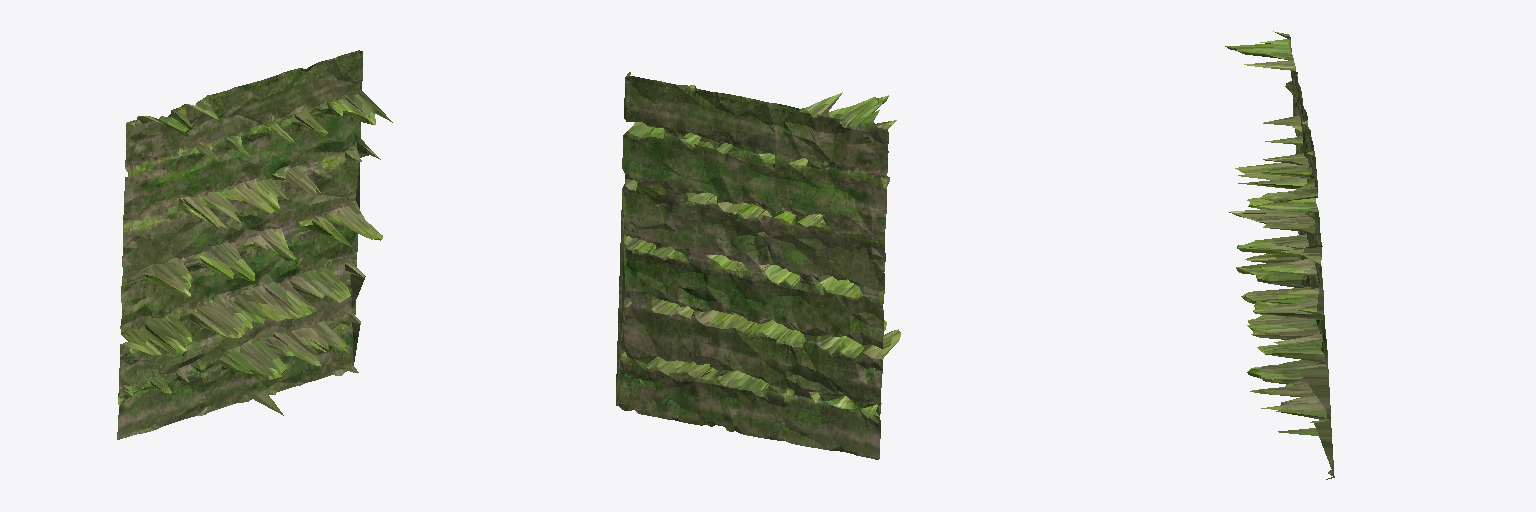
The picture shows the model from 3 angles: view 1: azimuth 30°, elevation 25°; view 2: azimuth 150°, elevation 25°; view 3: azimuth 270°, elevation 25°; orthographic projection.
Parts seen in each view (by area): view 1: grp1; view 2: grp1; view 3: grp1.
Boxes of the visible parts, x1=… form: grp1: x1=117, y1=50, x2=392, y2=439; grp1: x1=616, y1=72, x2=900, y2=459; grp1: x1=1225, y1=31, x2=1334, y2=479.
Bounding box in the file's own units: 8 × 10 × 3.02.
1 materials, 1 textured.